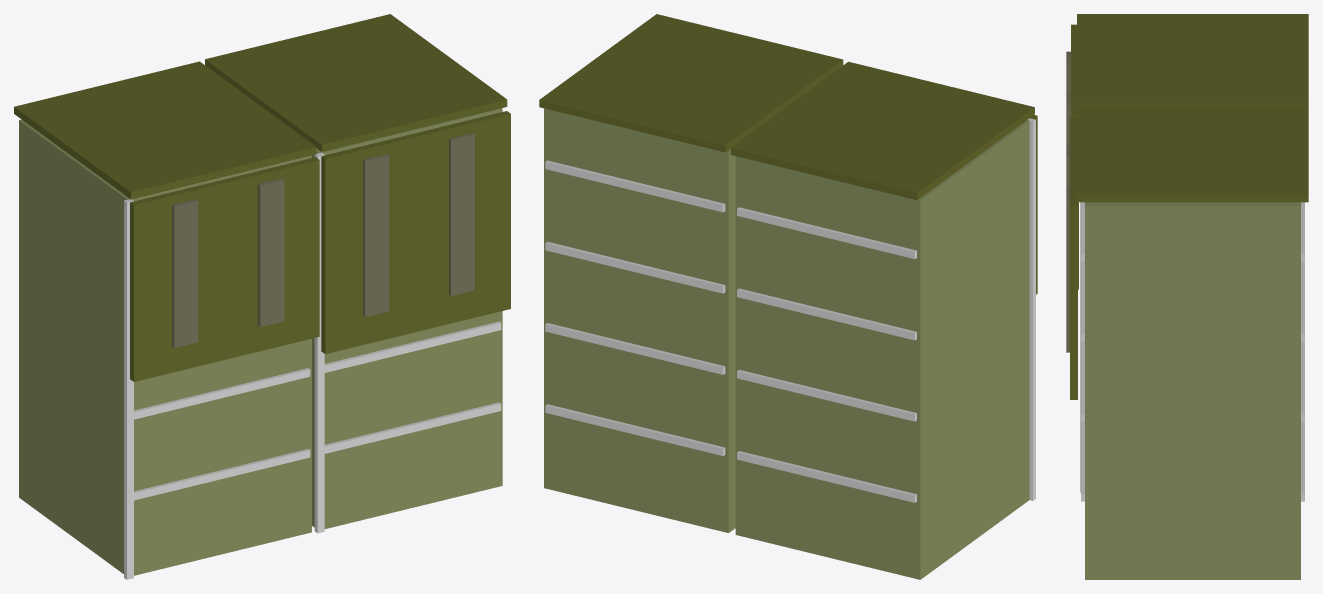
The model's file is SM_HescoCorto2_v4_Red_e0_Sano_LOD0.fbx.
3 views of the same model, side by side, from view 1: azimuth 30°, elevation 25°; view 2: azimuth 150°, elevation 25°; view 3: azimuth 270°, elevation 25° (orthographic).
Parts seen in each view (by area): view 1: SM_hesco_piezas_v76_LOD0; view 2: SM_hesco_piezas_v76_LOD0; view 3: SM_hesco_piezas_v76_LOD0.
Boxes of the visible parts, left/top/right/bottom form: SM_hesco_piezas_v76_LOD0: left=14, top=14, right=510, bottom=579; SM_hesco_piezas_v76_LOD0: left=539, top=14, right=1037, bottom=579; SM_hesco_piezas_v76_LOD0: left=1066, top=14, right=1308, bottom=579.
Size of the model in its own units: 2.21 by 2.16 by 1.23.
